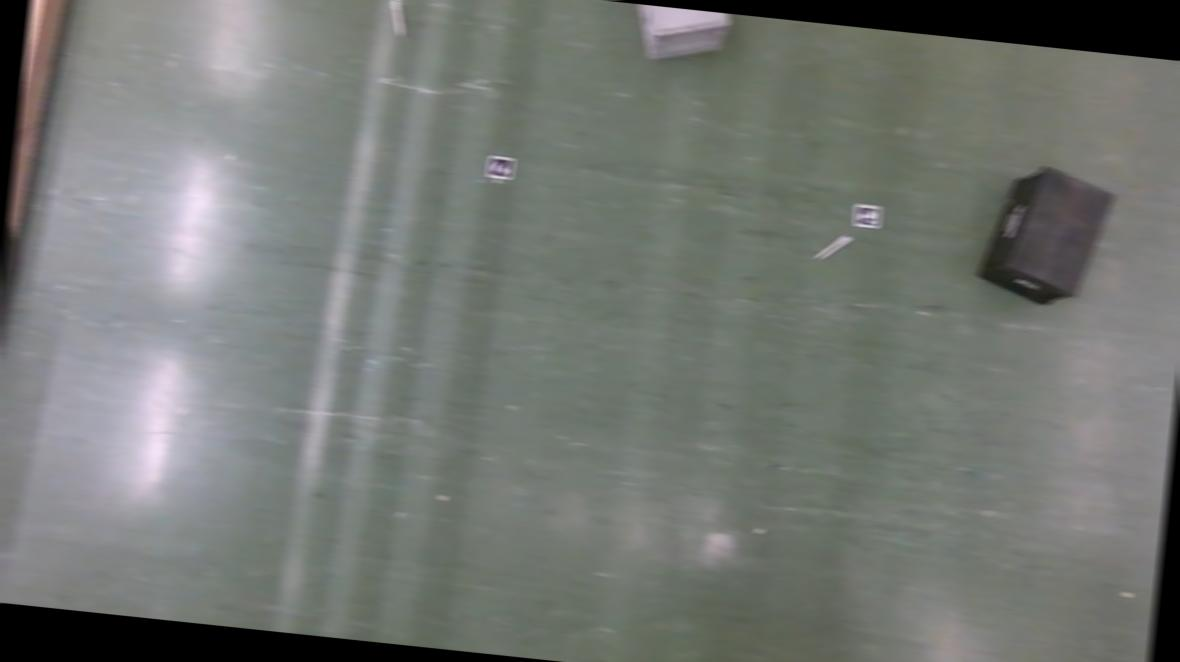probes: (816, 230, 850, 264), (387, 0, 404, 37)
rako: (975, 161, 1116, 314), (632, 3, 732, 68)
